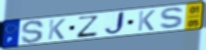J: (103, 10, 127, 37)
K: (136, 9, 157, 32), (47, 18, 67, 41)
S: (158, 6, 186, 30), (21, 19, 46, 44)
Z: (75, 15, 100, 39)
